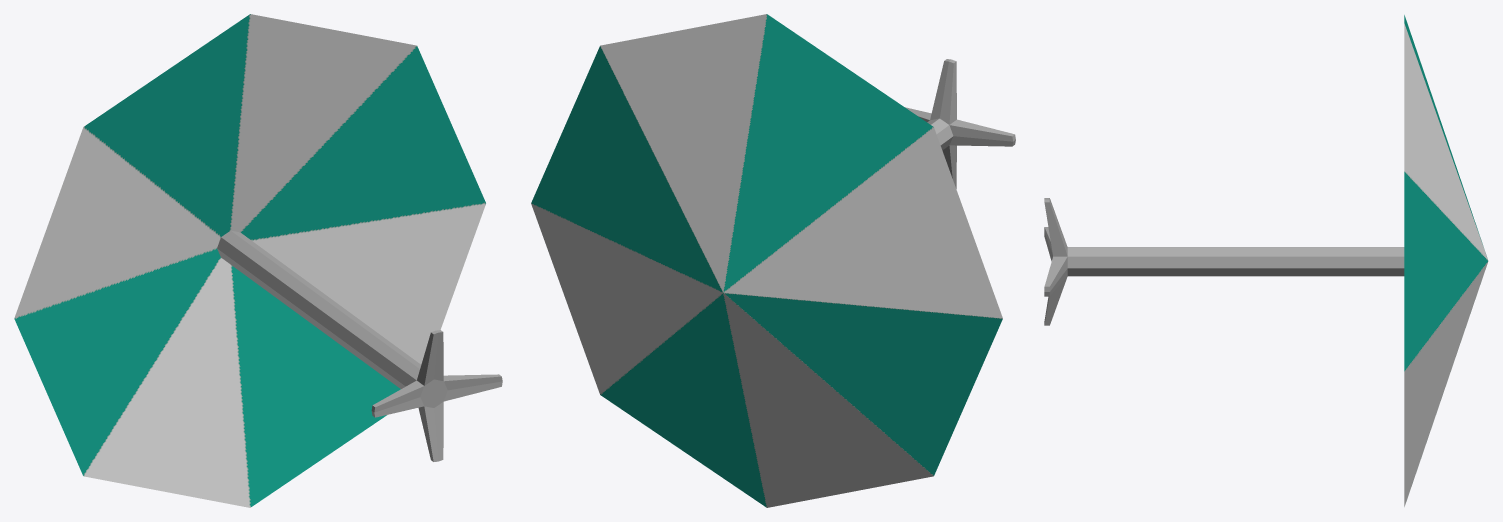
Rendered from store-umbrella-green.fbx.
3 views of the same model, side by side, from view 1: azimuth 30°, elevation 25°; view 2: azimuth 150°, elevation 25°; view 3: azimuth 270°, elevation 25° (orthographic). The views are drawn at different scales.
Parts seen in each view (by area): view 1: store-umbrella-green; view 2: store-umbrella-green; view 3: store-umbrella-green.
Boxes of the visible parts, <box> form: store-umbrella-green: <box>14,14,502,507</box>; store-umbrella-green: <box>531,14,1015,507</box>; store-umbrella-green: <box>1044,15,1488,506</box>.
Size of the model in its own units: 3.06 by 3.06 by 2.58.
